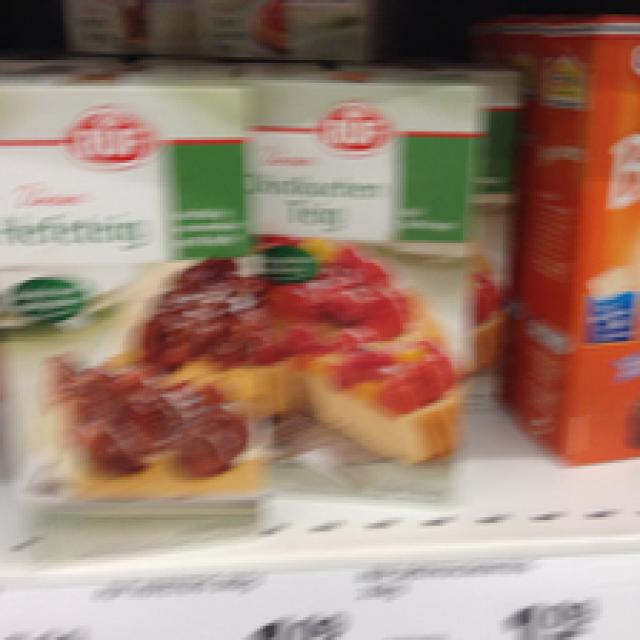groceries: (0, 68, 260, 526), (237, 77, 480, 492)
